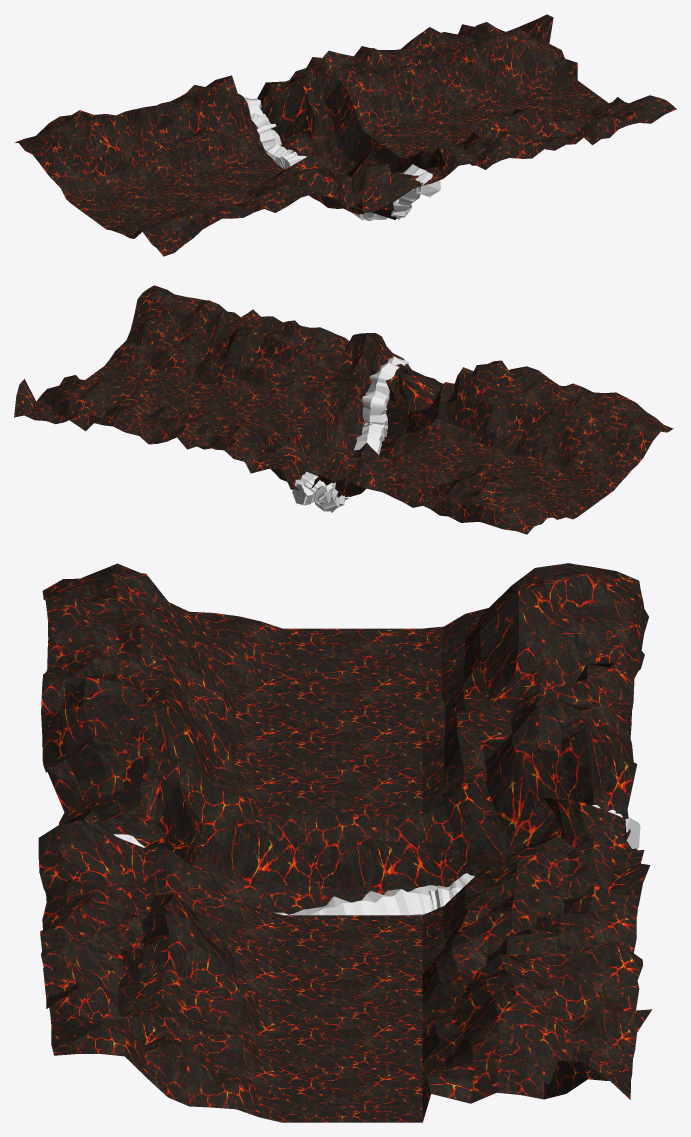
Rendered from FireWorldTrack2.fbx.
3 renders of one model, top to bottom at view 1: azimuth 30°, elevation 25°; view 2: azimuth 150°, elevation 25°; view 3: azimuth 270°, elevation 25°, orthographic. The views are drawn at different scales.
Parts seen in each view (by area): view 1: Plane, Sweep_NURBS_1; view 2: Plane, Sweep_NURBS_1; view 3: Plane, Sweep_NURBS_1.
Part boxes in pixels (left/top/right/bottom): Plane: left=15, top=14, right=676, bottom=256; Sweep_NURBS_1: left=244, top=97, right=440, bottom=220; Plane: left=14, top=285, right=673, bottom=534; Sweep_NURBS_1: left=292, top=356, right=408, bottom=512; Plane: left=38, top=563, right=651, bottom=1122; Sweep_NURBS_1: left=114, top=805, right=640, bottom=915.
Bounding box in the file's own units: 1030 × 192 × 525.
Materials: 1 (1 with a texture image).
